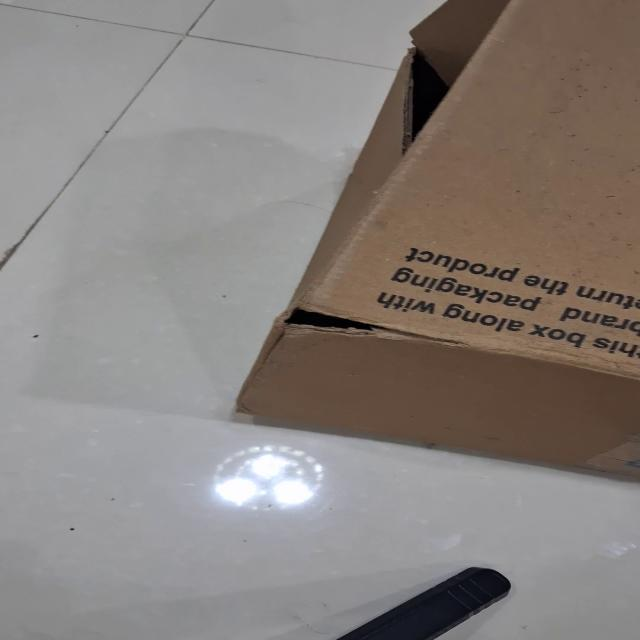paper: (2, 0, 638, 639), (231, 1, 639, 478)
